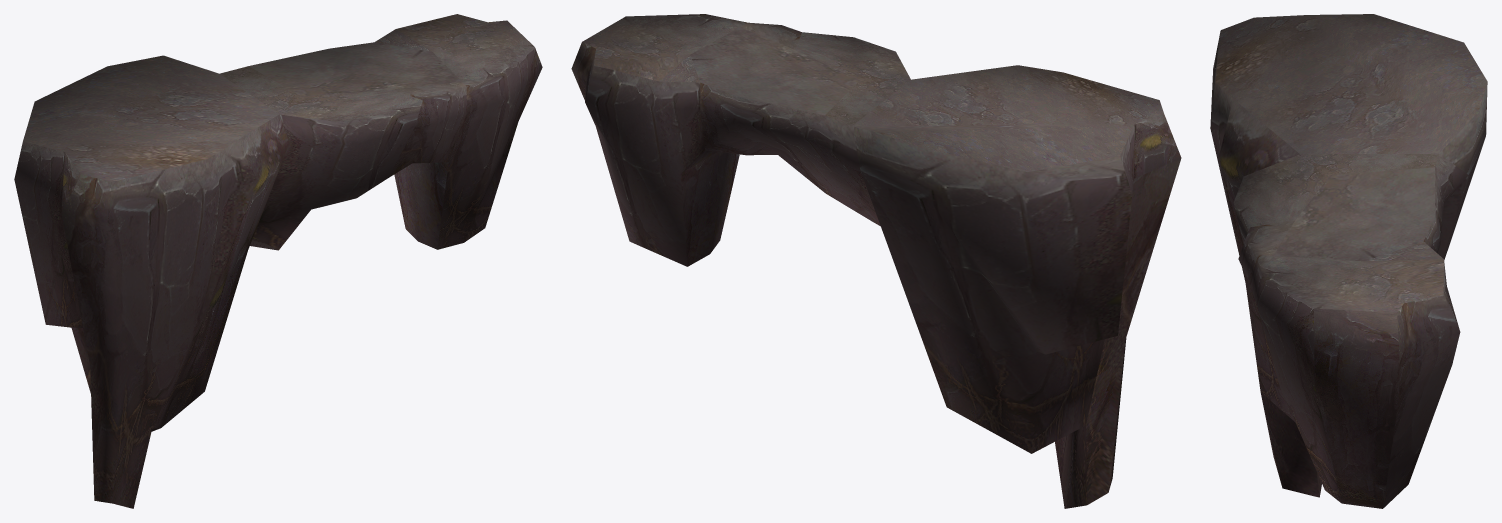
Rendered from yw_shibalipo_fengbianshi02.FBX.
3 views of the same model, side by side, from view 1: azimuth 30°, elevation 25°; view 2: azimuth 150°, elevation 25°; view 3: azimuth 270°, elevation 25° (orthographic). The views are drawn at different scales.
Parts seen in each view (by area): view 1: yw_shibalipo_fengbianshi02; view 2: yw_shibalipo_fengbianshi02; view 3: yw_shibalipo_fengbianshi02.
Part boxes in pixels (x1,y1,x2,y2): yw_shibalipo_fengbianshi02: (14, 14, 542, 508); yw_shibalipo_fengbianshi02: (571, 14, 1181, 508); yw_shibalipo_fengbianshi02: (1210, 14, 1487, 508).
Bounding box in the file's own units: 1151 × 802 × 447.
